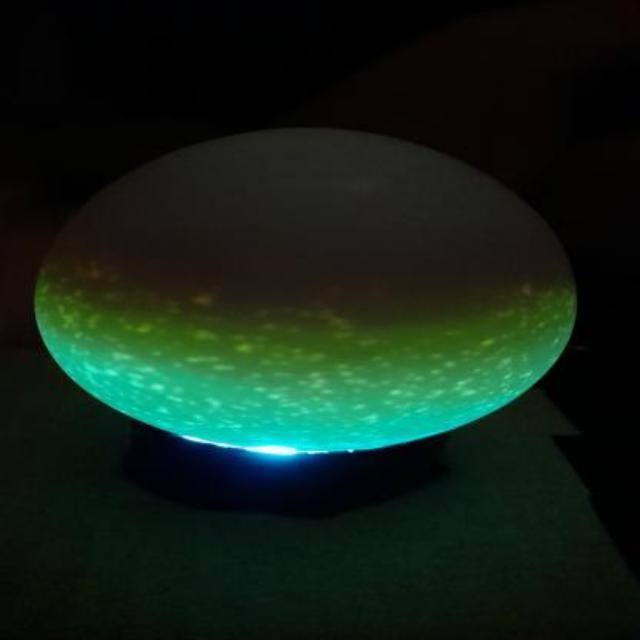Infertile: (34, 122, 584, 464)
